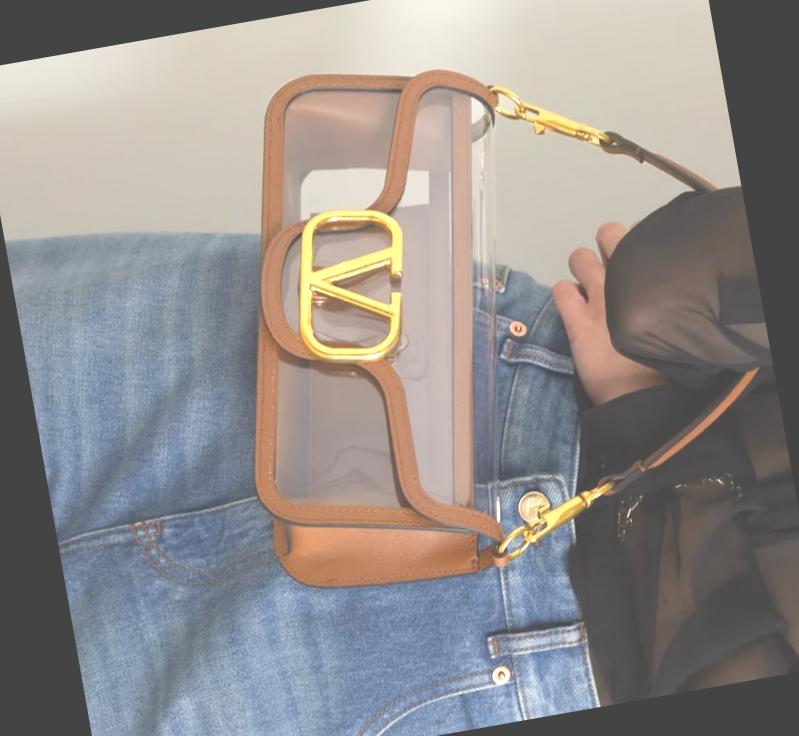VALENTINO: (278, 199, 422, 372)
